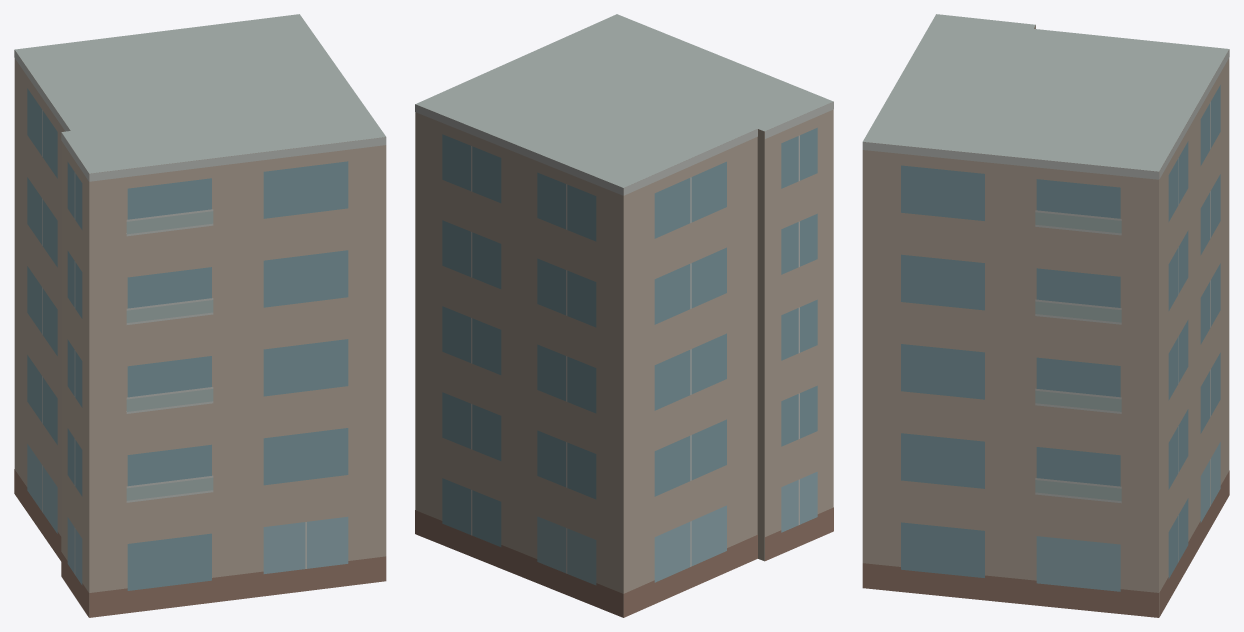
The model's file is survey-upis-32533913.glb.
3 views of the same model, side by side, from view 1: azimuth 30°, elevation 25°; view 2: azimuth 150°, elevation 25°; view 3: azimuth 270°, elevation 25° (orthographic). The views are drawn at different scales.
Visible parts, largest first — view 1: survey-upis-32533913.tmp; view 2: survey-upis-32533913.tmp; view 3: survey-upis-32533913.tmp.
Boxes of the visible parts, <box> form: survey-upis-32533913.tmp: <box>14,14,386,617</box>; survey-upis-32533913.tmp: <box>415,14,833,617</box>; survey-upis-32533913.tmp: <box>862,14,1229,617</box>.
Size of the model in its own units: 10.12 by 13.35 by 9.96.
